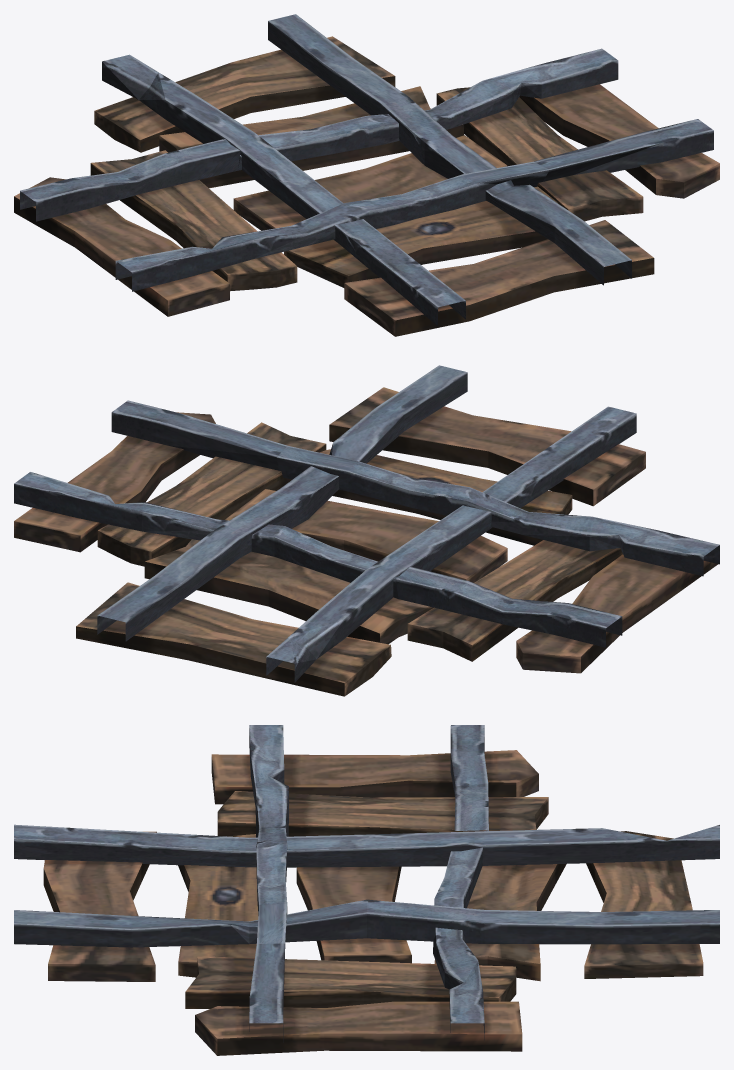
Rendered from bandit_track_cross_01.fbx.
3 views of the same model, one above another, from view 1: azimuth 30°, elevation 25°; view 2: azimuth 150°, elevation 25°; view 3: azimuth 270°, elevation 25° (orthographic). The views are drawn at different scales.
Visible parts, largest first — view 1: obj0.724; view 2: obj0.724; view 3: obj0.724.
Boxes of the visible parts, box(x1,y1,x2,y2) form: obj0.724: box(14, 14, 719, 336); obj0.724: box(14, 365, 719, 696); obj0.724: box(14, 725, 719, 1055).
Size of the model in its own units: 4 by 0.2947 by 4.
